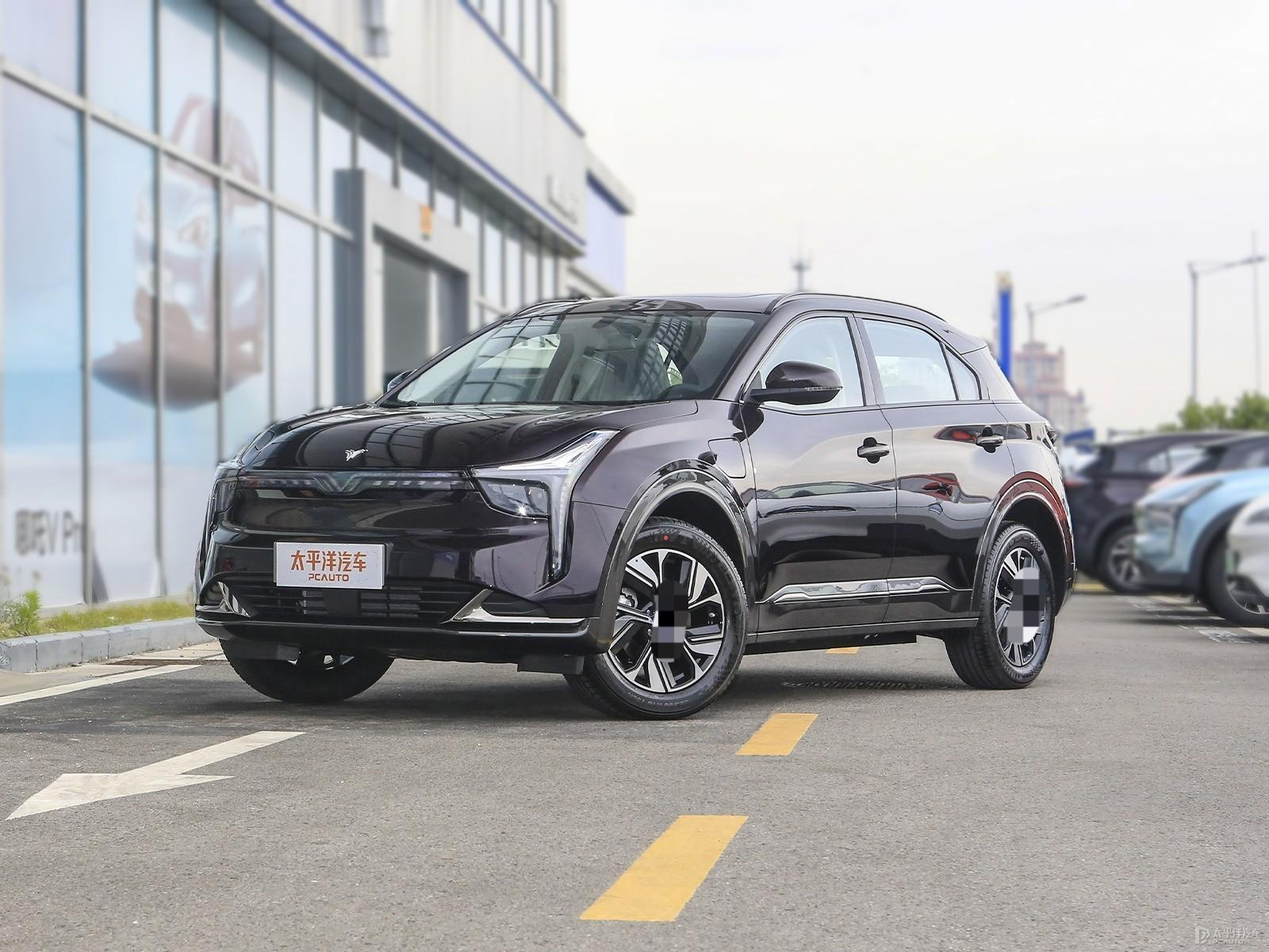NETA: (343, 448, 370, 463)
